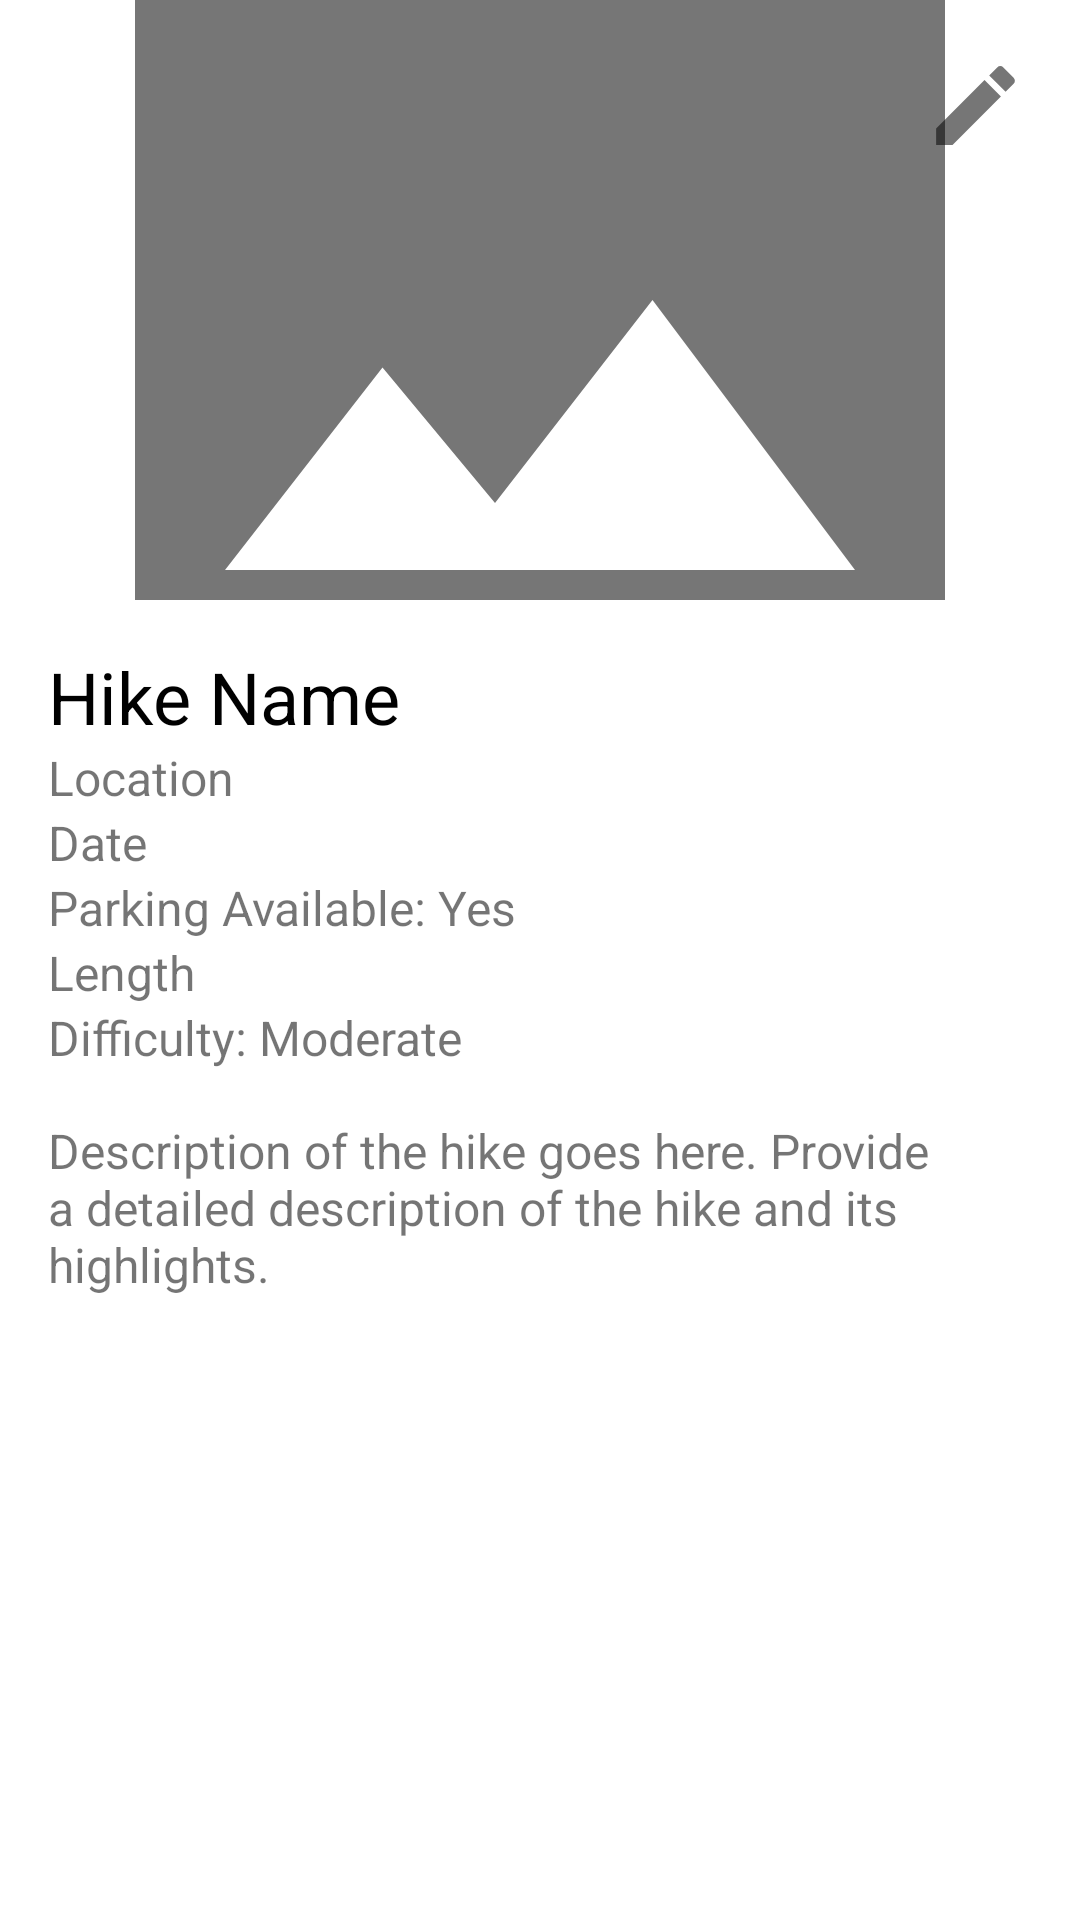

Screen size 1080 x 1920. Icon name, then its center in pixels as (x,y):
edit: (1008,105)
